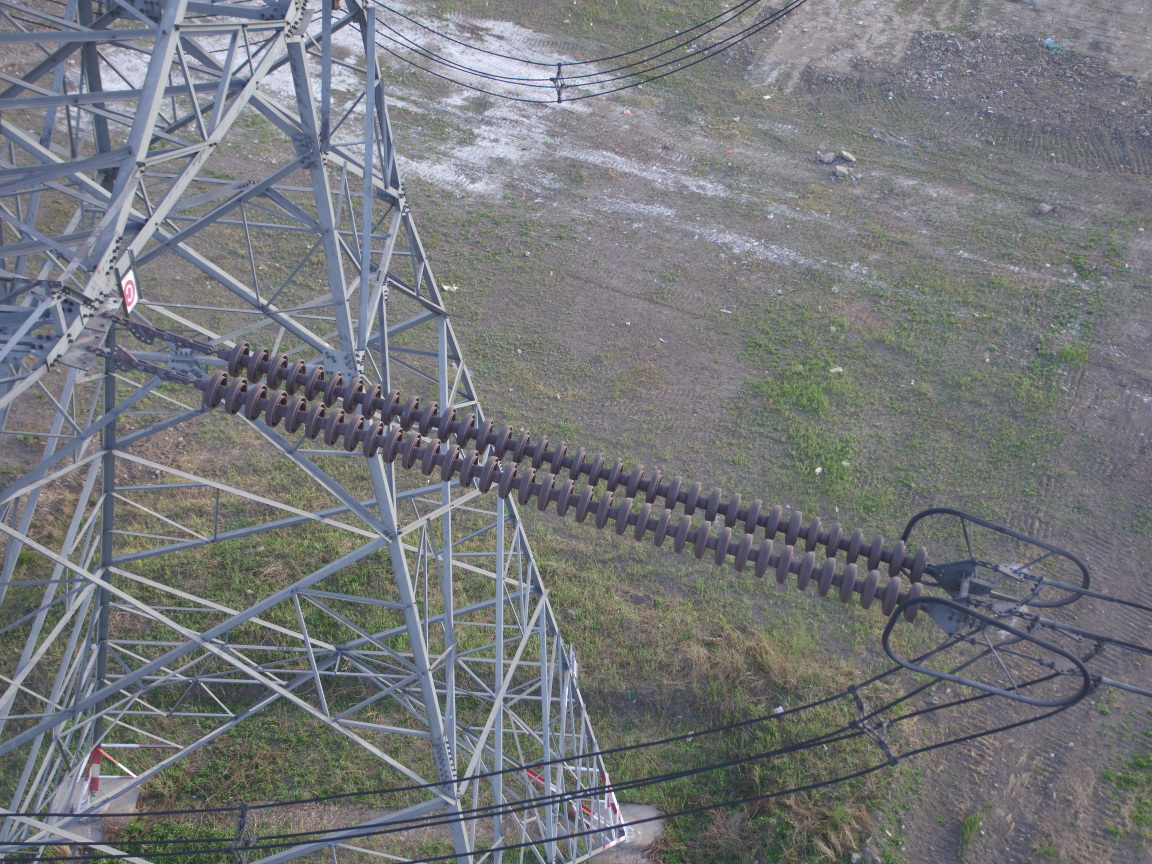insulator: (180, 338, 948, 626)
